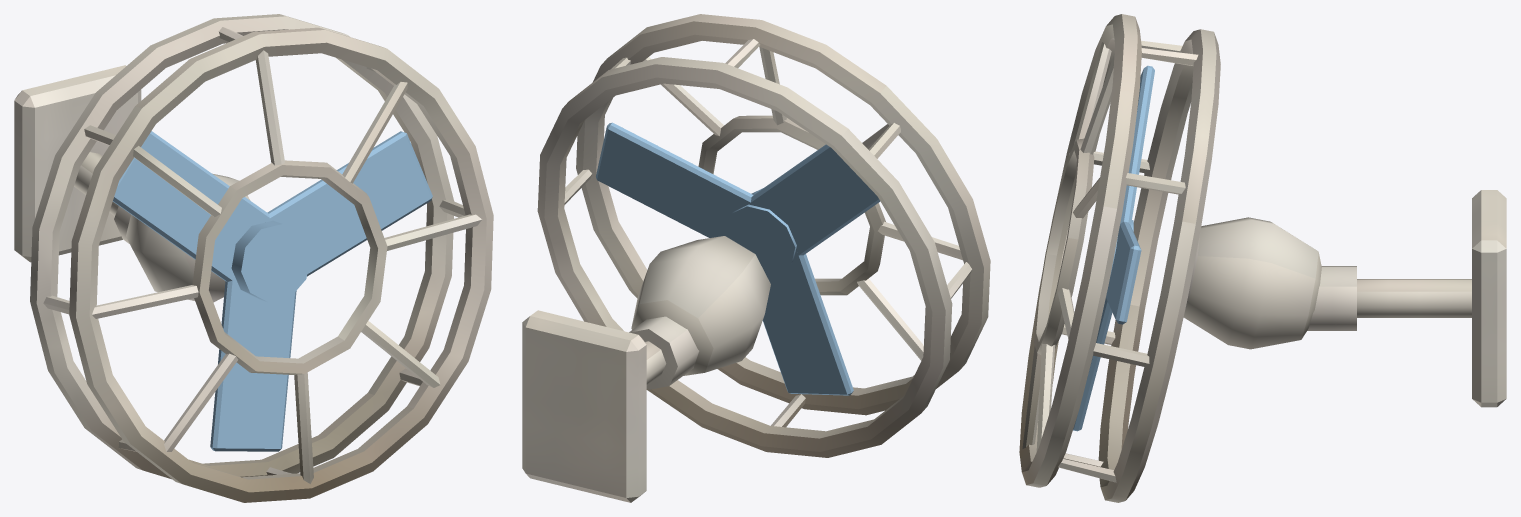
File: fan_wall.glb
The picture shows the model from 3 angles, left to right: view 1: azimuth 30°, elevation 25°; view 2: azimuth 150°, elevation 25°; view 3: azimuth 270°, elevation 25°; orthographic projection. The views are drawn at different scales.
Parts seen in each view (by area): view 1: fan_wall; view 2: fan_wall; view 3: fan_wall.
Boxes of the visible parts, box(x1,y1,x2,y2) form: fan_wall: box(14, 14, 493, 502); fan_wall: box(522, 14, 990, 502); fan_wall: box(1019, 14, 1506, 502).
Size of the model in its own units: 0.4208 by 0.4286 by 0.4235.
2 materials, 1 textured.
